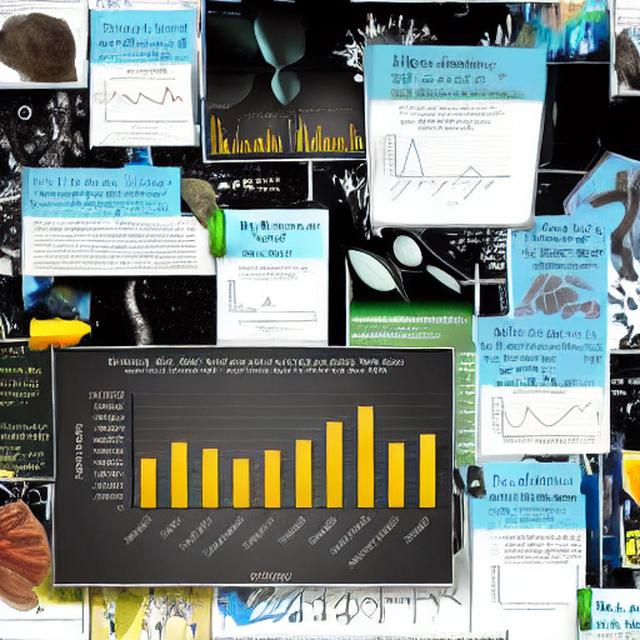Graph: (62, 352, 453, 584), (378, 118, 514, 208), (490, 389, 595, 449), (96, 75, 189, 131), (286, 107, 365, 159)
